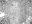person: (1, 12, 7, 17)
